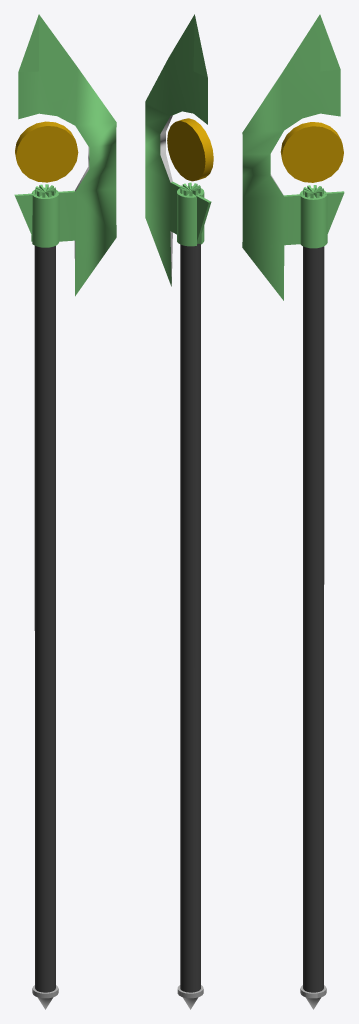
Rendered from Halberd.fbx.
The picture shows the model from 3 angles, left to right: view 1: azimuth 90°, elevation 25°; view 2: azimuth 210°, elevation 25°; view 3: azimuth 270°, elevation 25°; orthographic projection.
Visible parts, largest first — view 1: pCylinder2; view 2: pCylinder2; view 3: pCylinder2.
Boxes of the visible parts, bbox=[...] form: pCylinder2: bbox=[14, 14, 116, 1009]; pCylinder2: bbox=[145, 14, 213, 1009]; pCylinder2: bbox=[242, 14, 344, 1009].
Size of the model in its own units: 4.27 by 171 by 15.85.
